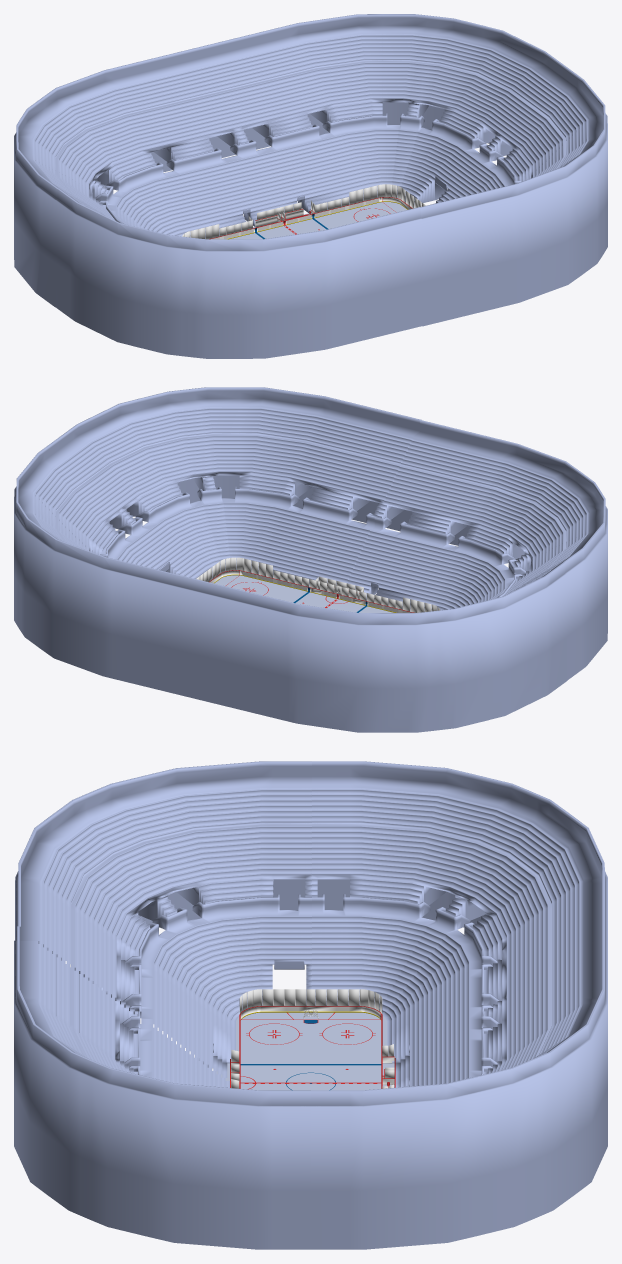
3 views of the same model, one above another, from view 1: azimuth 30°, elevation 25°; view 2: azimuth 150°, elevation 25°; view 3: azimuth 270°, elevation 25° (orthographic). The views are drawn at different scales.
Parts seen in each view (by area): view 1: Stands_1, Stands_1.001, Stands_4, Stands_2, Plexiglass, Plane, Boards; view 2: Stands_2, Stands_4, Stands_1.001, Stands_1, Plexiglass, Plane, Boards; view 3: Stands_4, Stands_1.001, Stands_1, Stands_2, Plane, Plexiglass, Boards, Lines_Red.
Part boxes in pixels (x1,y1,x2,y2): Stands_1: (201,14,564,214); Stands_1.001: (55,188,422,358); Stands_4: (14,46,273,306); Stands_2: (421,65,607,326); Plexiglass: (182,184,425,239); Plane: (229,202,414,239); Boards: (209,197,412,239); Stands_2: (58,387,421,586); Stands_4: (200,562,567,732); Stands_1.001: (347,420,607,680); Stands_1: (14,438,201,699); Plexiglass: (196,557,440,612); Plane: (214,575,393,612); Boards: (209,570,414,612); Stands_4: (311,761,607,1077); Stands_1.001: (15,761,311,1077); Stands_1: (311,926,607,1249); Stands_2: (14,926,310,1249); Plane: (216,1012,394,1090); Plexiglass: (231,989,394,1088); Boards: (230,1006,395,1088); Lines_Red: (241,1012,380,1089).
Size of the model in its own units: 42.63 by 9.39 by 32.14.
